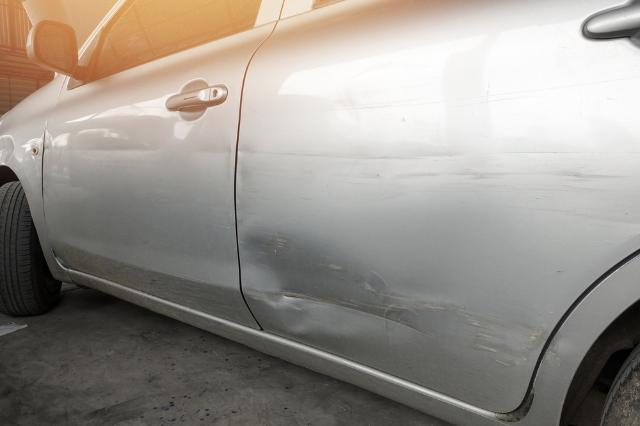dent: (241, 227, 399, 339)
scratch: (242, 144, 640, 227), (387, 294, 548, 375)
